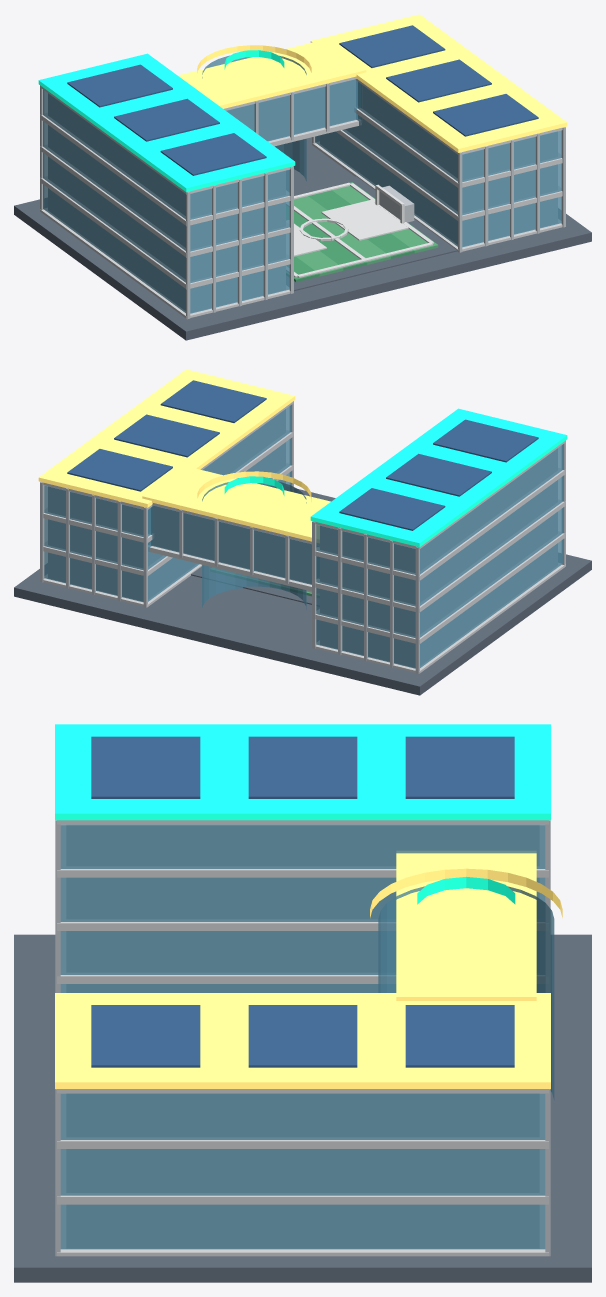
File: academy_complex.glb
3 views of the same model, one above another, from view 1: azimuth 30°, elevation 25°; view 2: azimuth 150°, elevation 25°; view 3: azimuth 270°, elevation 25° (orthographic). The views are drawn at different scales.
Parts seen in each view (by area): view 1: academy_complex; view 2: academy_complex; view 3: academy_complex.
Boxes of the visible parts, left/top/right/bottom form: academy_complex: left=14, top=14, right=591, bottom=340; academy_complex: left=14, top=369, right=591, bottom=695; academy_complex: left=14, top=724, right=591, bottom=1282.
Size of the model in its own units: 3.76 by 1.25 by 2.76.
